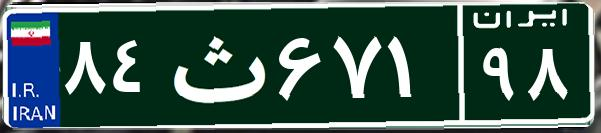1: (385, 28, 445, 110)
4: (110, 28, 158, 105)
6: (273, 28, 330, 110)
7: (330, 28, 385, 110)
8: (57, 26, 110, 107), (525, 38, 570, 115)
9: (475, 38, 525, 113)
ث: (158, 15, 273, 115)
